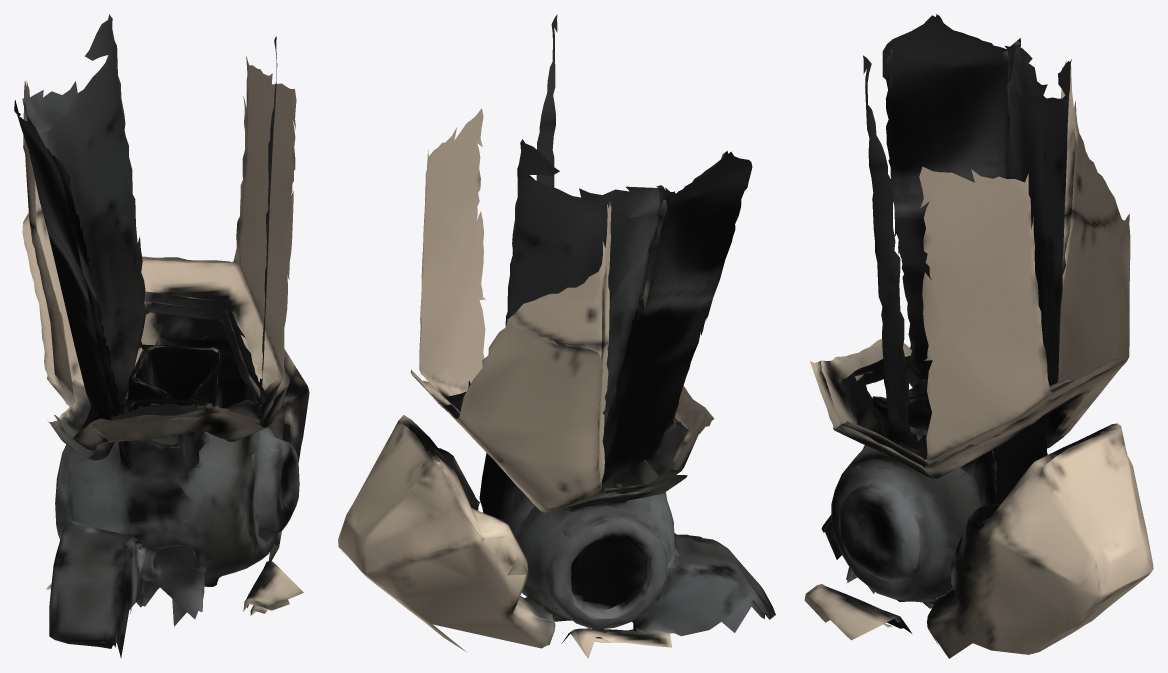
The model's file is wanzer_local_leg_right_001_upper.glb.
3 views of the same model, side by side, from view 1: azimuth 30°, elevation 25°; view 2: azimuth 150°, elevation 25°; view 3: azimuth 270°, elevation 25° (orthographic). The views are drawn at different scales.
Visible parts, largest first — view 1: PART_leg_right_upper; view 2: PART_leg_right_upper; view 3: PART_leg_right_upper.
Boxes of the visible parts, x1,y1,x2,y2 form: PART_leg_right_upper: [14, 14, 309, 658]; PART_leg_right_upper: [338, 14, 775, 658]; PART_leg_right_upper: [804, 14, 1153, 658].
Bounding box in the file's own units: 0.5746 × 0.9599 × 0.5149.
Materials: 1 (1 with a texture image).
